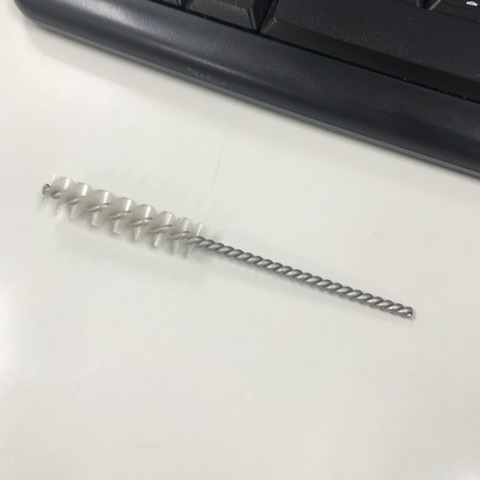Twist Brush-B: (37, 171, 416, 326)
